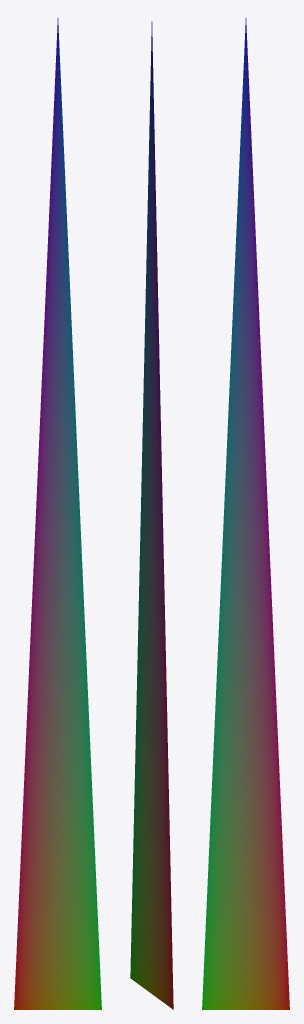
Rendered from blade_lod3.fbx.
3 views of the same model, side by side, from view 1: azimuth 90°, elevation 25°; view 2: azimuth 210°, elevation 25°; view 3: azimuth 270°, elevation 25° (orthographic).
Parts seen in each view (by area): view 1: LOD3; view 2: LOD3; view 3: LOD3.
Part boxes in pixels (left/top/right/bottom): LOD3: left=14, top=18, right=101, bottom=1009; LOD3: left=130, top=21, right=173, bottom=1009; LOD3: left=202, top=18, right=289, bottom=1009.
Bounding box in the file's own units: 6.04e-07 × 4 × 50.
